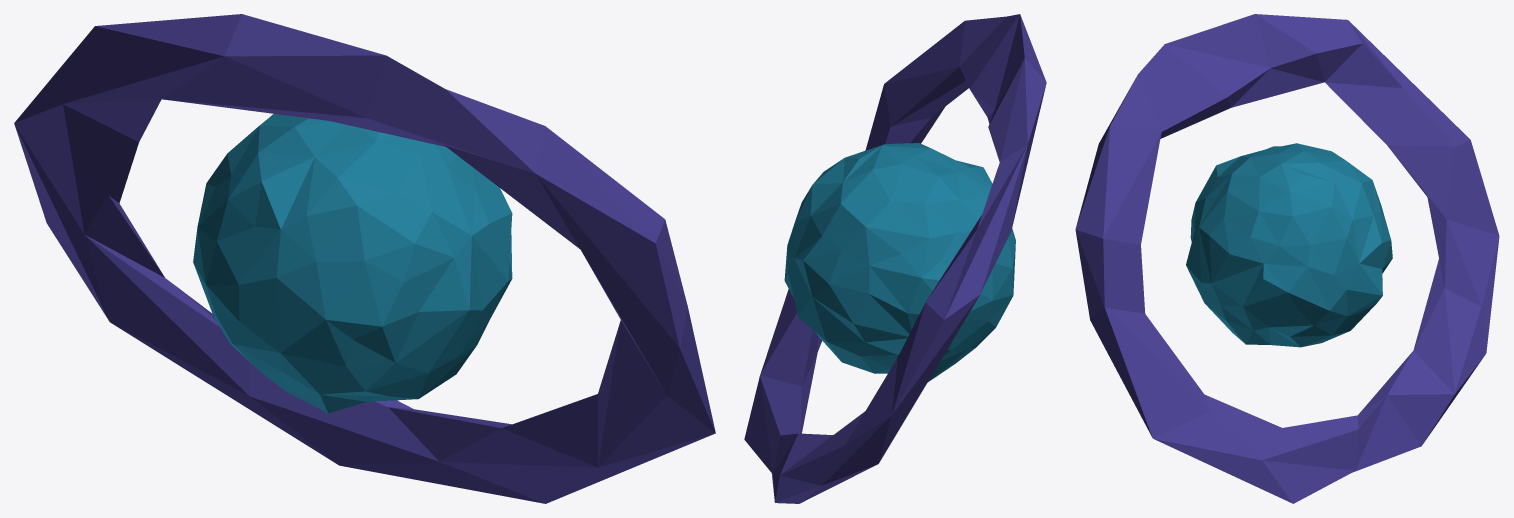
File: ring_planet3.fbx
3 views of the same model, side by side, from view 1: azimuth 30°, elevation 25°; view 2: azimuth 150°, elevation 25°; view 3: azimuth 270°, elevation 25° (orthographic). The views are drawn at different scales.
Parts seen in each view (by area): view 1: ring_planet3; view 2: ring_planet3; view 3: ring_planet3.
Part boxes in pixels (left/top/right/bottom): ring_planet3: left=14, top=14, right=715, bottom=503; ring_planet3: left=744, top=14, right=1046, bottom=503; ring_planet3: left=1075, top=14, right=1499, bottom=503.
Size of the model in its own units: 343 by 400 by 403.
